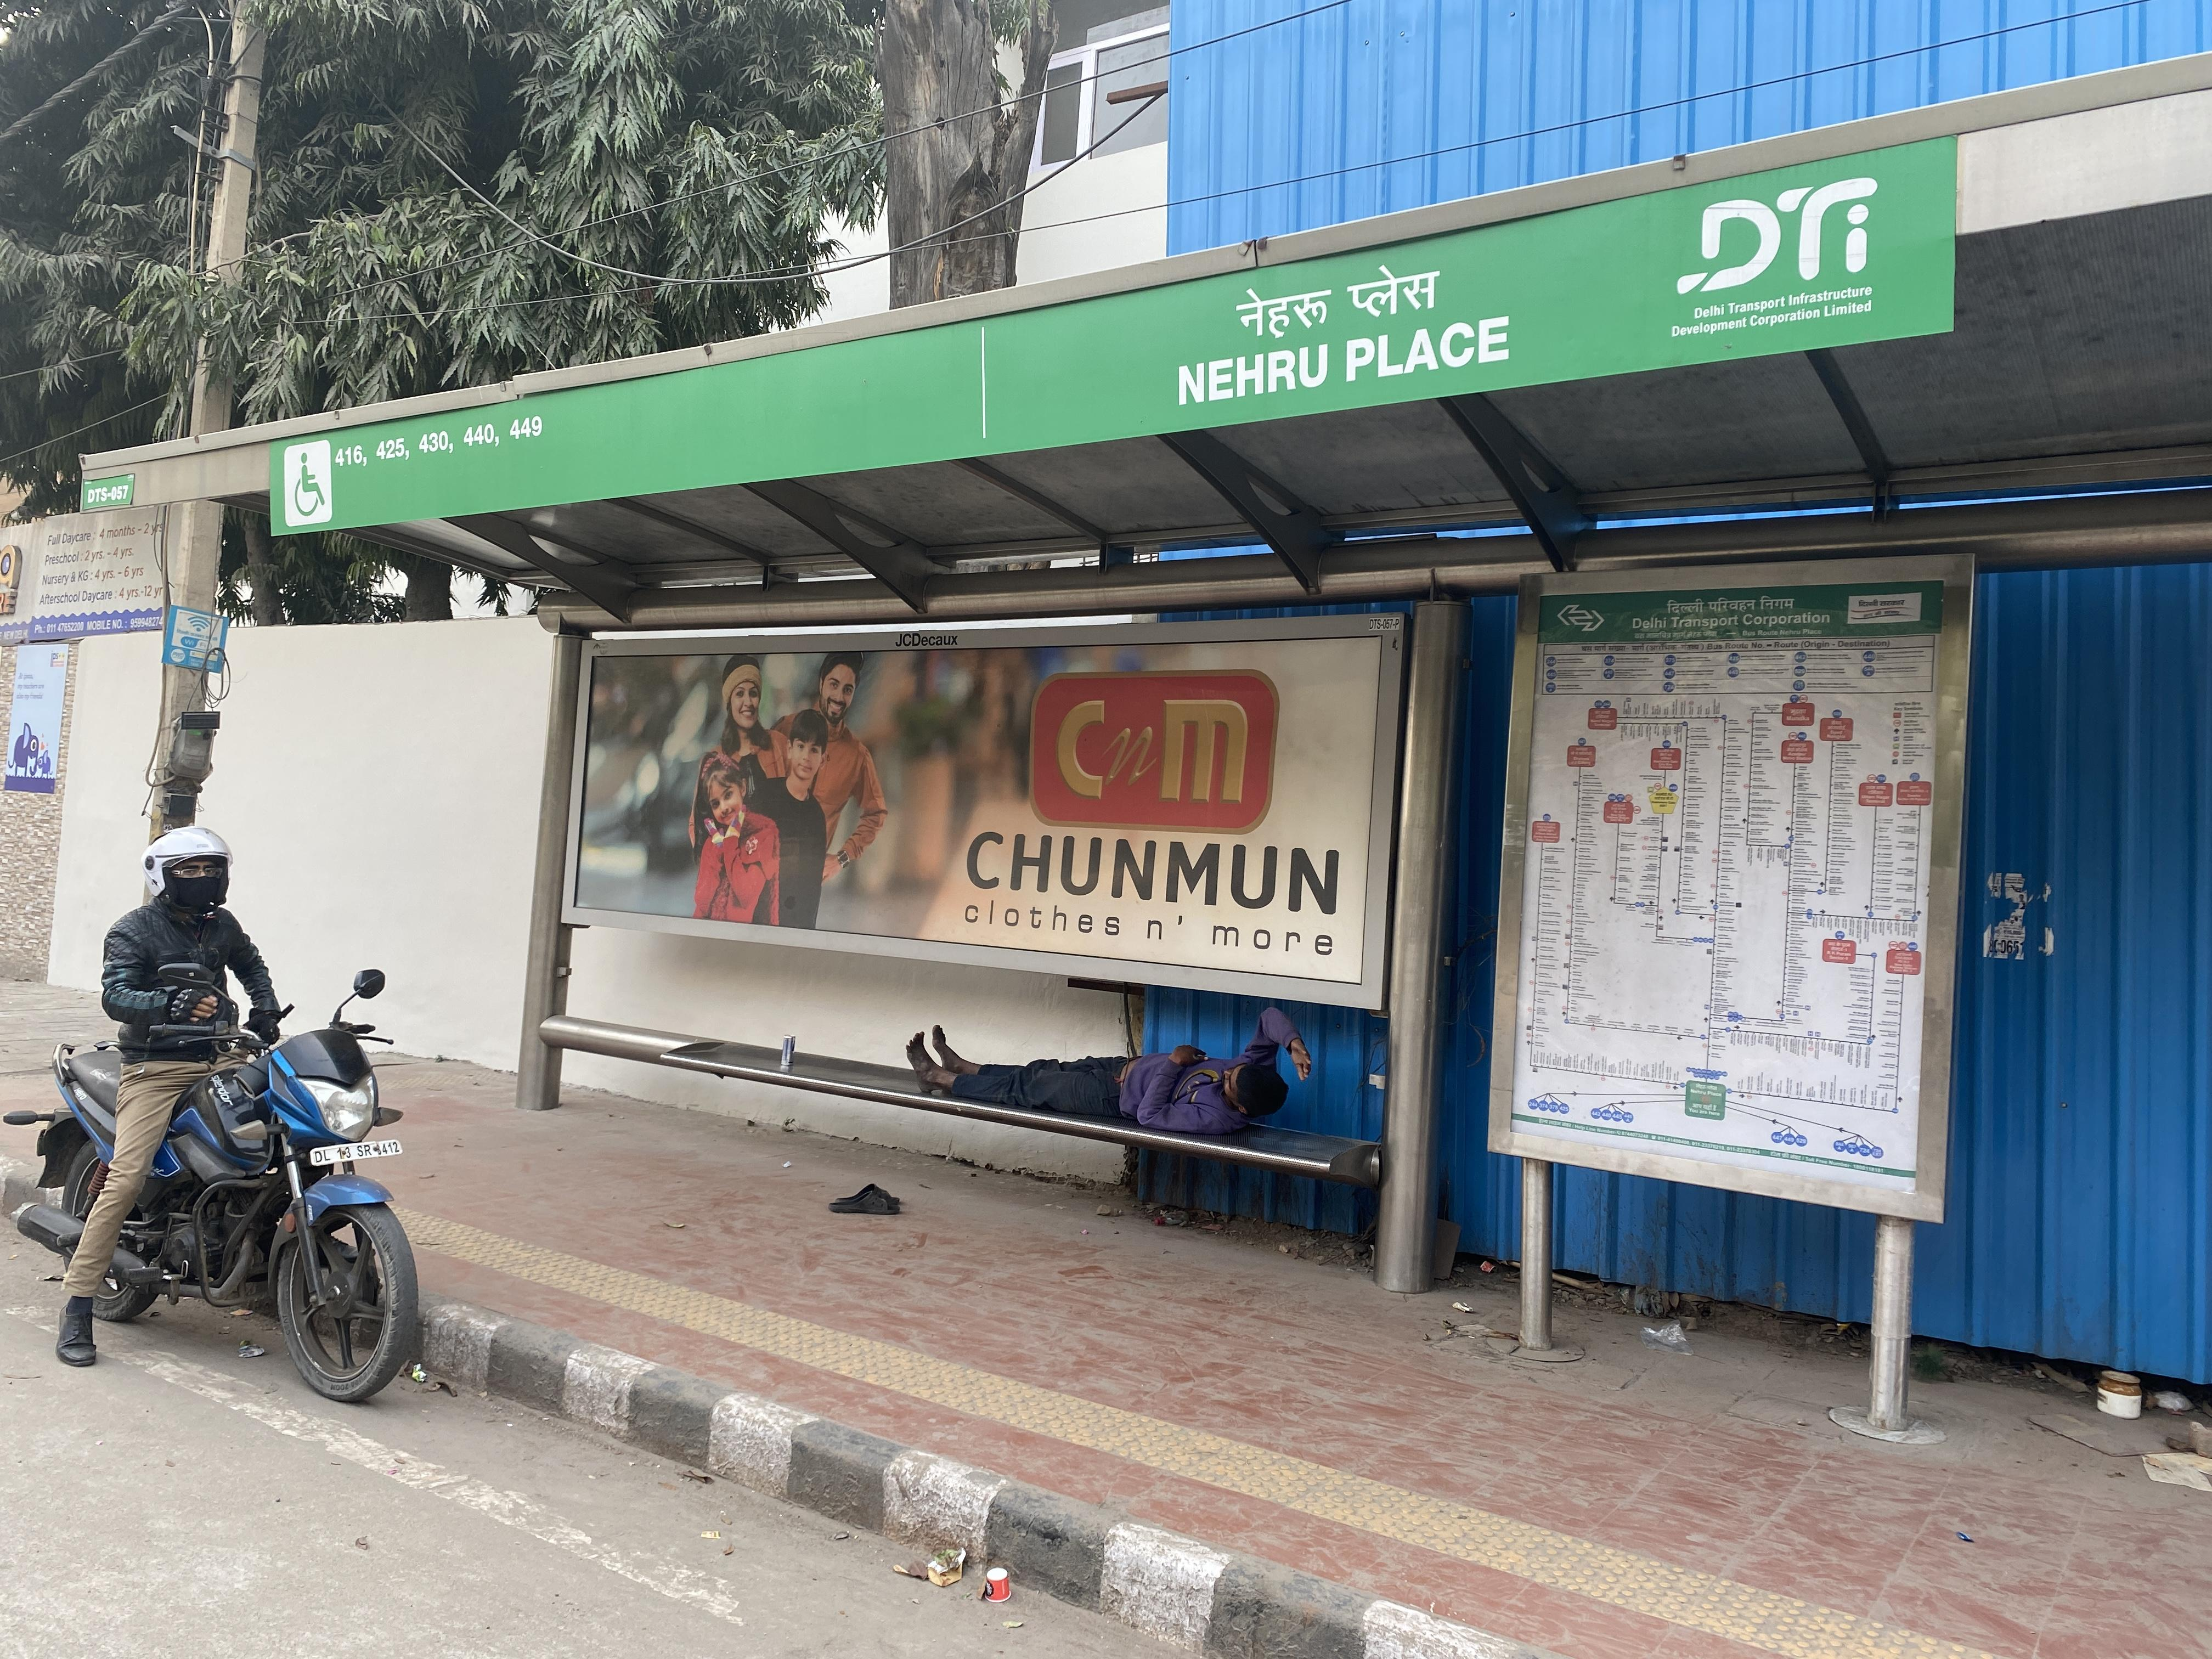Bus-stop-board: (273, 143, 1980, 598)
